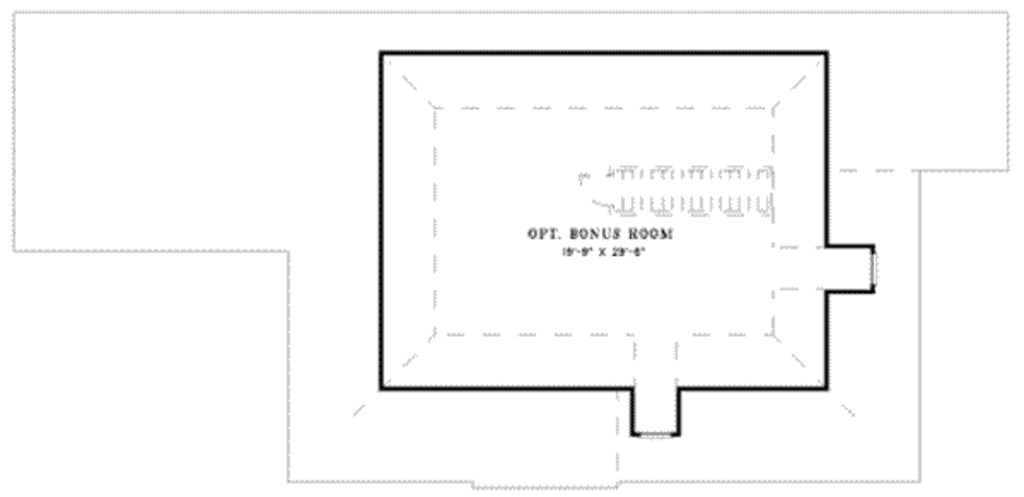window: (639, 425, 671, 438), (869, 246, 879, 287)
